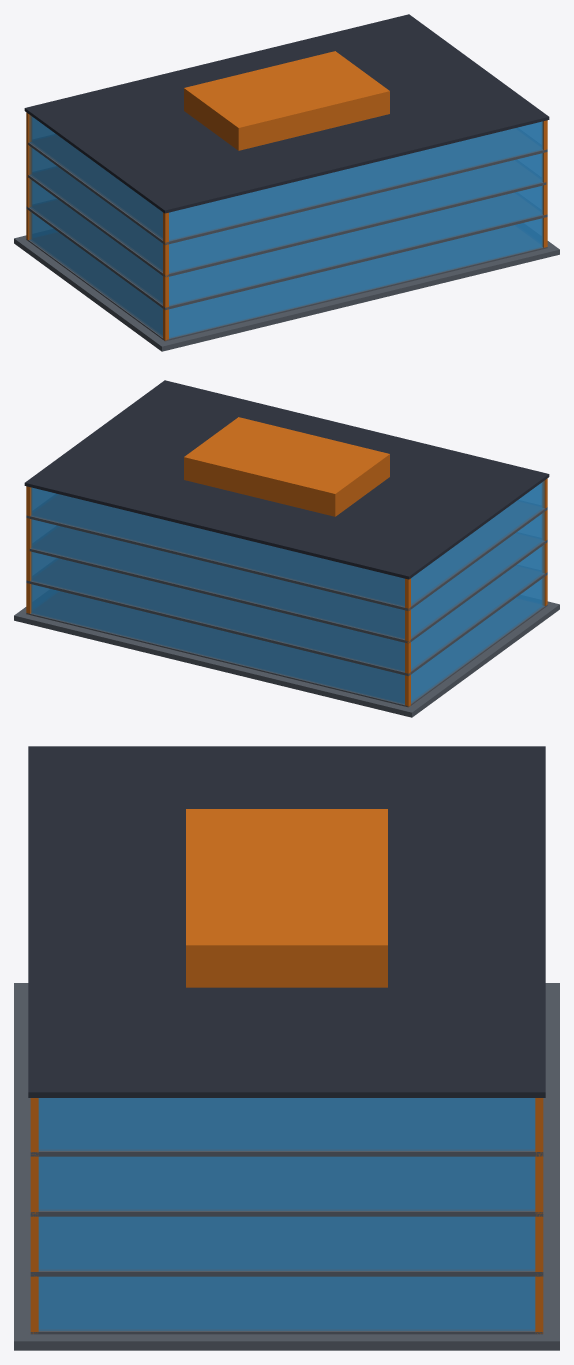
Rendered from bp_proj1_1788450678684_t2_pdf.obj.
3 views of the same model, one above another, from view 1: azimuth 30°, elevation 25°; view 2: azimuth 150°, elevation 25°; view 3: azimuth 270°, elevation 25° (orthographic). The views are drawn at different scales.
Visible parts, largest first — view 1: Roof_Slab, Floor_Slab_2, Floor_Slab_3, Floor_Slab_4, Floor_Slab_1, Rooftop_HVAC, Glass_Facade_1_S, Glass_Facade_2_S, Glass_Facade_3_S, Glass_Facade_4_S, Foundation_Slab, Glass_Facade_2_W (+3 smaller); view 2: Roof_Slab, Floor_Slab_2, Floor_Slab_3, Floor_Slab_4, Floor_Slab_1, Rooftop_HVAC, Glass_Facade_1_N, Glass_Facade_2_N, Glass_Facade_3_N, Glass_Facade_4_N, Foundation_Slab, Glass_Facade_2_W (+3 smaller); view 3: Roof_Slab, Rooftop_HVAC, Floor_Slab_2, Floor_Slab_3, Floor_Slab_4, Floor_Slab_1, Glass_Facade_1_E, Glass_Facade_2_E, Glass_Facade_3_E, Glass_Facade_4_E, Foundation_Slab.
Part boxes in pixels (left/top/right/bottom): Roof_Slab: left=24, top=14, right=549, bottom=213; Floor_Slab_2: left=26, top=193, right=547, bottom=310; Floor_Slab_3: left=28, top=160, right=546, bottom=277; Floor_Slab_4: left=28, top=128, right=547, bottom=245; Floor_Slab_1: left=26, top=225, right=547, bottom=341; Rooftop_HVAC: left=184, top=51, right=389, bottom=150; Glass_Facade_1_S: left=169, top=218, right=543, bottom=338; Glass_Facade_2_S: left=169, top=185, right=543, bottom=305; Glass_Facade_3_S: left=169, top=153, right=543, bottom=273; Glass_Facade_4_S: left=169, top=121, right=543, bottom=240; Foundation_Slab: left=14, top=235, right=559, bottom=351; Glass_Facade_2_W: left=29, top=178, right=162, bottom=304; Roof_Slab: left=24, top=380, right=549, bottom=579; Floor_Slab_2: left=26, top=559, right=547, bottom=676; Floor_Slab_3: left=29, top=526, right=547, bottom=643; Floor_Slab_4: left=26, top=494, right=547, bottom=610; Floor_Slab_1: left=26, top=591, right=547, bottom=707; Rooftop_HVAC: left=184, top=417, right=389, bottom=516; Glass_Facade_1_N: left=30, top=584, right=404, bottom=704; Glass_Facade_2_N: left=30, top=551, right=404, bottom=671; Glass_Facade_3_N: left=30, top=519, right=404, bottom=639; Glass_Facade_4_N: left=30, top=487, right=404, bottom=606; Foundation_Slab: left=14, top=601, right=559, bottom=717; Glass_Facade_2_W: left=411, top=544, right=544, bottom=670; Roof_Slab: left=28, top=746, right=545, bottom=1097; Rooftop_HVAC: left=186, top=809, right=387, bottom=987; Floor_Slab_2: left=30, top=1217, right=543, bottom=1276; Floor_Slab_3: left=30, top=1157, right=543, bottom=1216; Floor_Slab_4: left=30, top=1098, right=543, bottom=1156; Floor_Slab_1: left=30, top=1277, right=542, bottom=1334; Glass_Facade_1_E: left=38, top=1276, right=535, bottom=1330; Glass_Facade_2_E: left=38, top=1216, right=535, bottom=1270; Glass_Facade_3_E: left=38, top=1156, right=535, bottom=1210; Glass_Facade_4_E: left=38, top=1098, right=535, bottom=1150; Foundation_Slab: left=14, top=983, right=559, bottom=1350.
Bounding box in the file's own units: 41 × 15.7 × 26.4.
